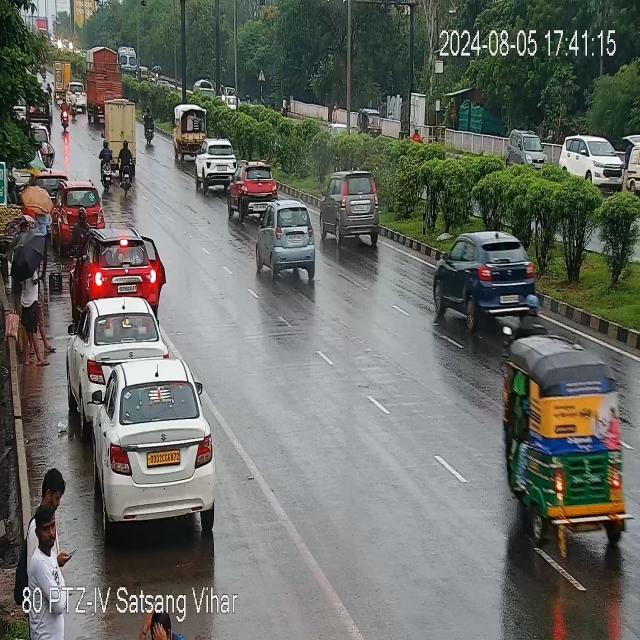2-wheelers: (118, 134, 134, 192), (140, 103, 159, 145), (100, 142, 114, 192), (60, 98, 71, 131)
auto: (497, 331, 626, 546), (173, 107, 206, 161), (106, 96, 138, 144)
car: (90, 359, 214, 530), (432, 228, 544, 332), (70, 296, 161, 404), (81, 228, 166, 311), (256, 200, 320, 282), (322, 171, 384, 249), (555, 134, 627, 197), (229, 168, 282, 220), (193, 138, 240, 184), (506, 129, 562, 167), (623, 126, 640, 196)
pedestrian: (19, 264, 48, 374), (28, 504, 70, 578), (36, 467, 70, 502), (31, 198, 54, 241)
truck: (87, 41, 122, 118)
